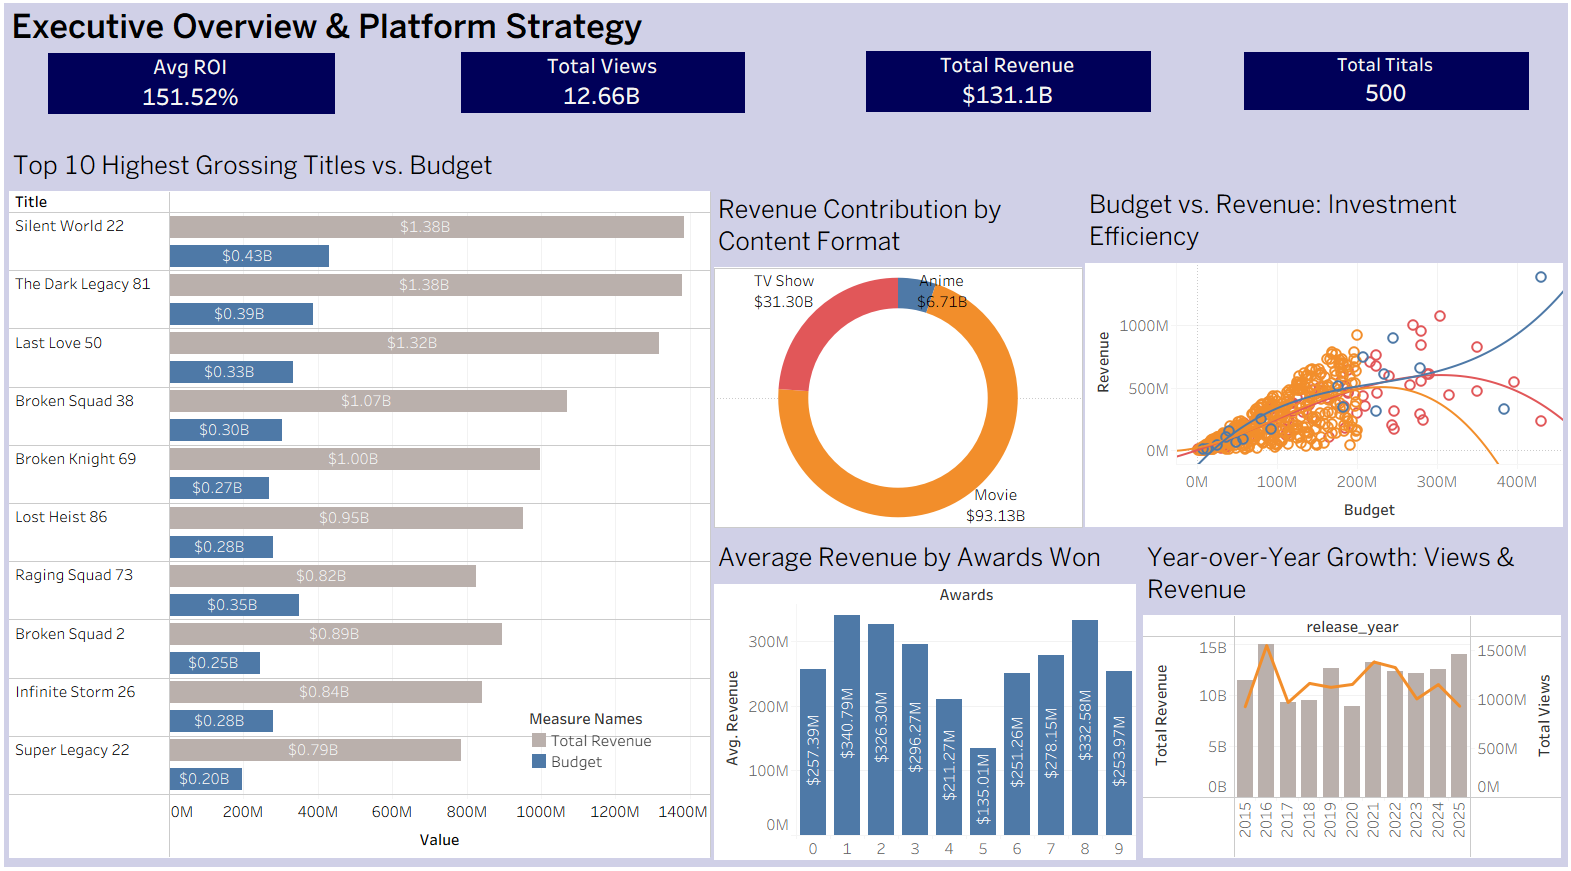

Layout of this report page (visuals, bound fields, positions):
{"tool":"tableau","page":{"name":"Dashboard 1","canvas":[1000,1000],"units":"permille","ordinal":0},"visuals":[{"type":"title","box":[5.1,9.1,989.9,54.5]},{"type":"worksheet","title":"KPI D1 (3)","mark":"Automatic","box":[550.6,63.8,180.4,69.6]},{"type":"worksheet","title":"KPI D1 (2)","mark":"Automatic","box":[294.3,65,182.9,78.9]},{"type":"worksheet","title":"KPI D1 (4)","mark":"Automatic","box":[789.9,65,181,76.6]},{"type":"worksheet","title":"KPI D1","mark":"Automatic","box":[32.9,66.1,184.8,75.4]},{"type":"worksheet","title":"Ch1 D1","mark":"Bar","rows":["title"],"box":[8.2,170.5,444.3,809.7]},{"type":"worksheet","title":"Ch3 D1","mark":"Automatic","rows":["revenue"],"cols":["budget"],"box":[689.4,215.1,302.3,389.5]},{"type":"worksheet","title":"Ch2 D1","mark":"Circle","rows":["Calculation_1572893648809987","Calculation_1572893648809987"],"box":[454.6,220.9,233.3,384.9]},{"type":"worksheet","title":"Ch4 D1","mark":"Automatic","rows":["revenue"],"cols":["awards"],"box":[454.4,616,267.1,366.6]},{"type":"worksheet","title":"Ch5 D1","mark":"Automatic","rows":["Calculation_1571244050833414","Calculation_1571244051120135"],"cols":["Calculation_1571244049002496"],"box":[726,616,265.2,364.3]},{"type":"legend","title":"Ch1 D1","param":"[federated.0iw49sd0ae2vyw1akmx8d1iqeeq6].[:Measure Names]","box":[337.3,809.7,106.3,75.4]}]}

Visuals, with their boxes on the dashboard's canvas, which has no fixed pixel size, in thousandths of its width and height (x1, y1, x2, y2). These are canvas units, not pixel positions in the 1571x871 screenshot, which may show the page scaled, cropped or inside an application window:
title: 5/9/995/64
"KPI D1 (3)" worksheet: 551/64/731/133
"KPI D1 (2)" worksheet: 294/65/477/144
"KPI D1 (4)" worksheet: 790/65/971/142
"KPI D1" worksheet: 33/66/218/142
"Ch1 D1" worksheet (Bar marks): 8/170/452/980
"Ch3 D1" worksheet: 689/215/992/605
"Ch2 D1" worksheet (Circle marks): 455/221/688/606
"Ch4 D1" worksheet: 454/616/722/983
"Ch5 D1" worksheet: 726/616/991/980
"Ch1 D1" legend: 337/810/444/885
